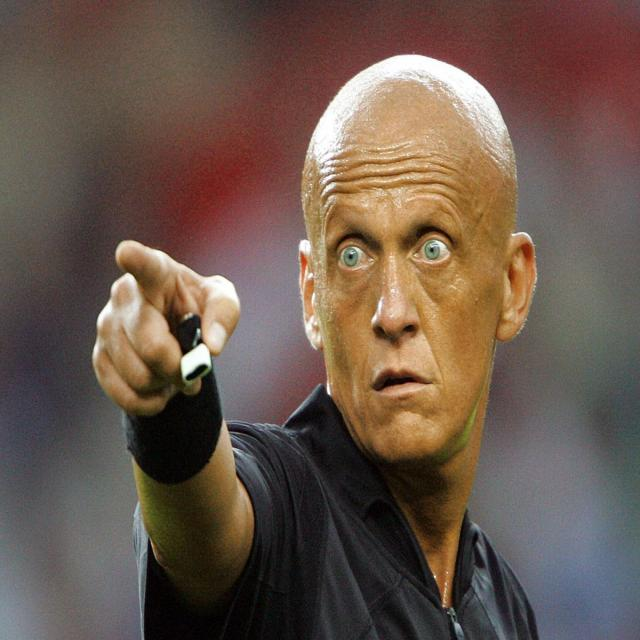bald: (270, 45, 546, 282)
